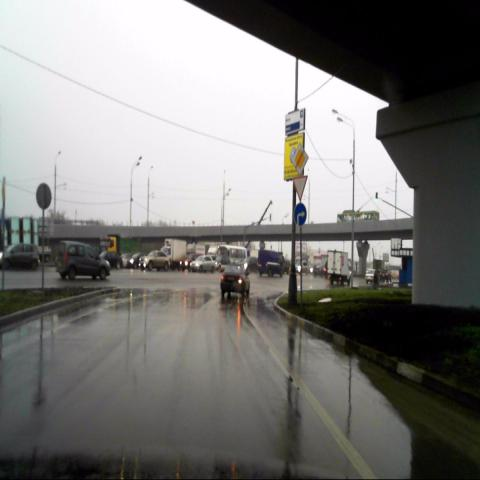4_1_2: (294, 203, 306, 226)
